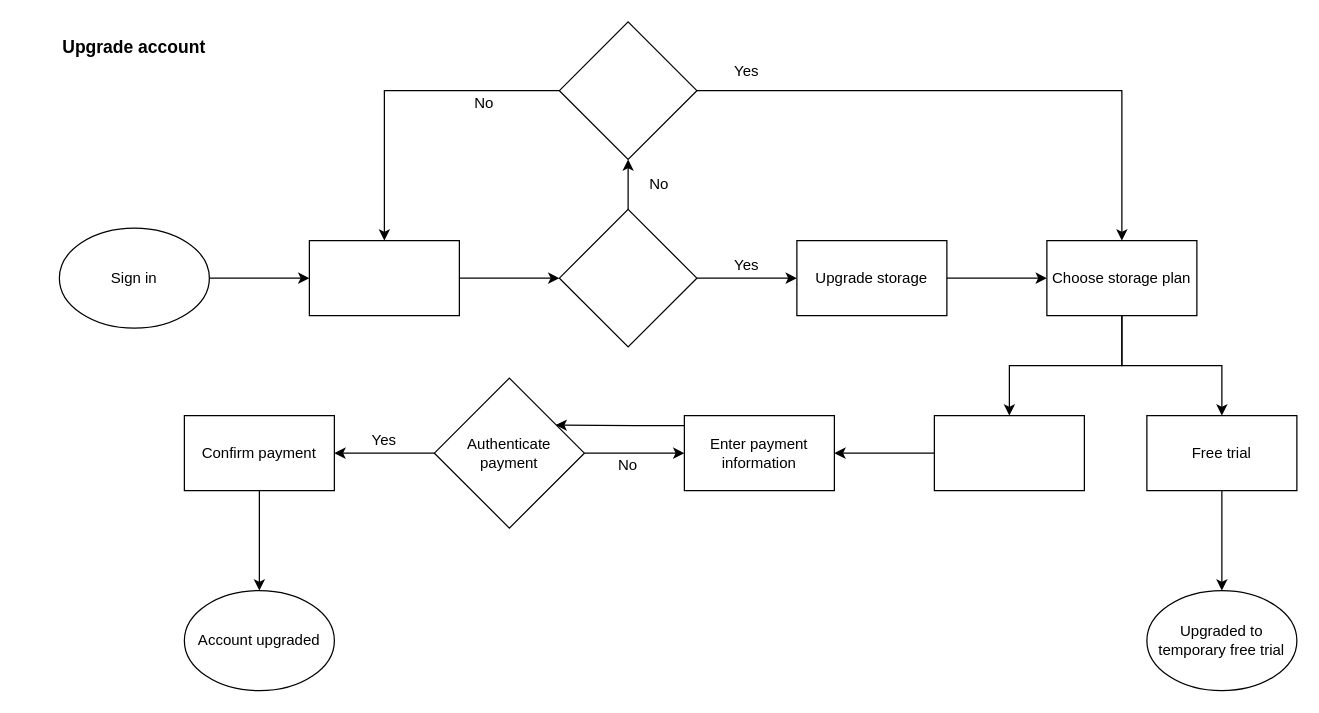
Image size: 1319x713. Some labels were removed from this diagram. Each missing label, with the centre of its shape:
Dashboard: pixel 383 277
Free storage is full: pixel 627 277
Paid plan: pixel 1008 452
Try upgraded storage: pixel 627 90
